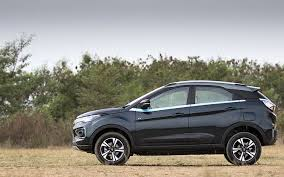Tata Nexon: (71, 78, 278, 166)
